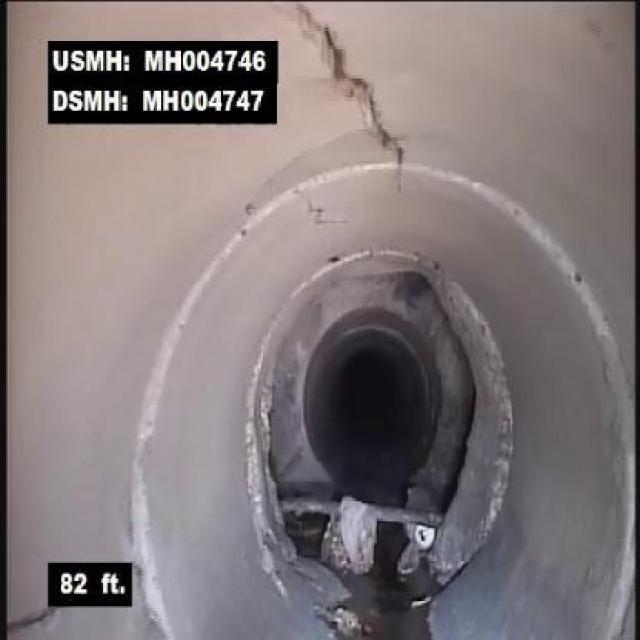Buckling: (284, 3, 408, 157)
Crack: (298, 191, 349, 232), (8, 604, 58, 638)
Obstacle: (278, 491, 448, 591)
